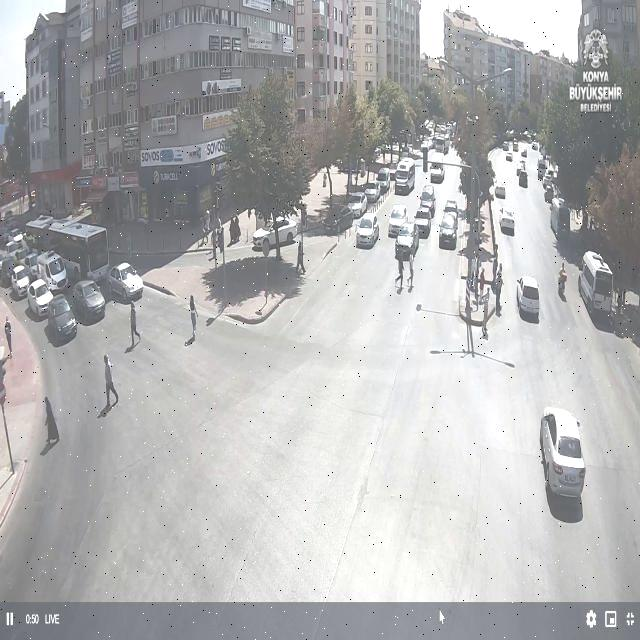Car: (537, 403, 586, 501), (252, 216, 298, 252), (46, 295, 78, 341), (72, 280, 106, 323), (108, 262, 144, 301), (27, 278, 54, 316), (516, 276, 540, 317), (322, 205, 354, 233), (7, 264, 32, 298), (395, 223, 419, 258), (355, 213, 379, 247), (1, 243, 28, 270), (387, 204, 409, 237), (438, 212, 458, 246), (346, 192, 368, 218), (413, 208, 432, 238), (419, 186, 437, 216), (499, 208, 516, 235), (376, 167, 391, 192), (364, 181, 381, 203), (443, 199, 458, 216), (542, 174, 554, 190), (516, 160, 526, 177), (495, 184, 506, 198)
Van: (580, 252, 614, 313), (34, 250, 72, 293), (394, 156, 416, 195), (430, 152, 445, 183)
